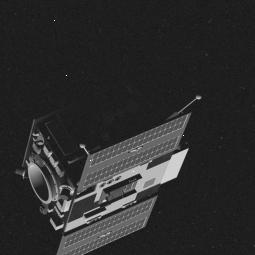proba_2: (27, 91, 193, 255)
